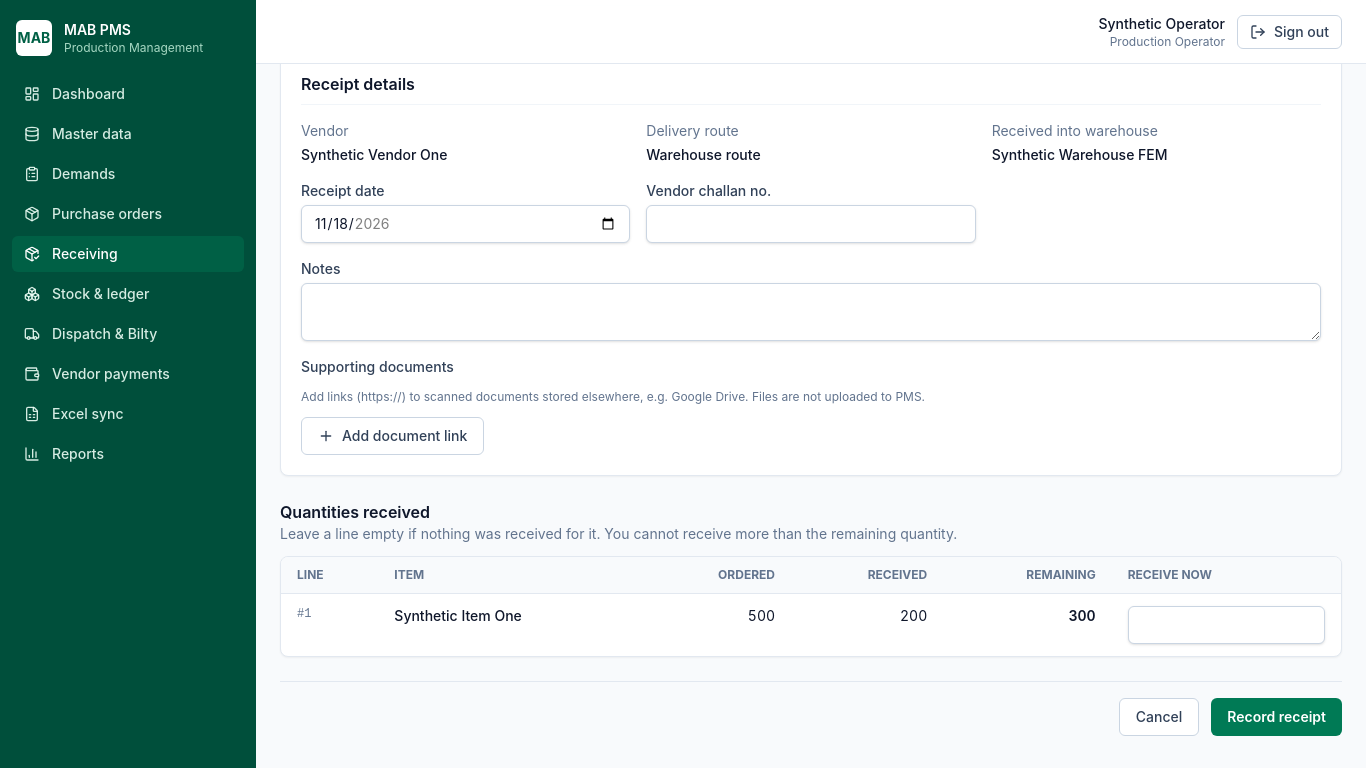
Scenario: Receipt form › prefills the PO from the URL, shows remaining quantities and blocks over-receiving
(page scrolled)
expect the row "#1 Synthetic Item One 500 200 300" is shown: met, box top-left (281, 594), bottom-right (1341, 656)
expect the text "Received into warehouse" is shown: met, box top-left (992, 122), bottom-right (1158, 139)
Type "301" into the number field named "Line 1 quantity to receive".
click(1226, 625); type("301")  # box top-left (1128, 606), bottom-right (1325, 644)
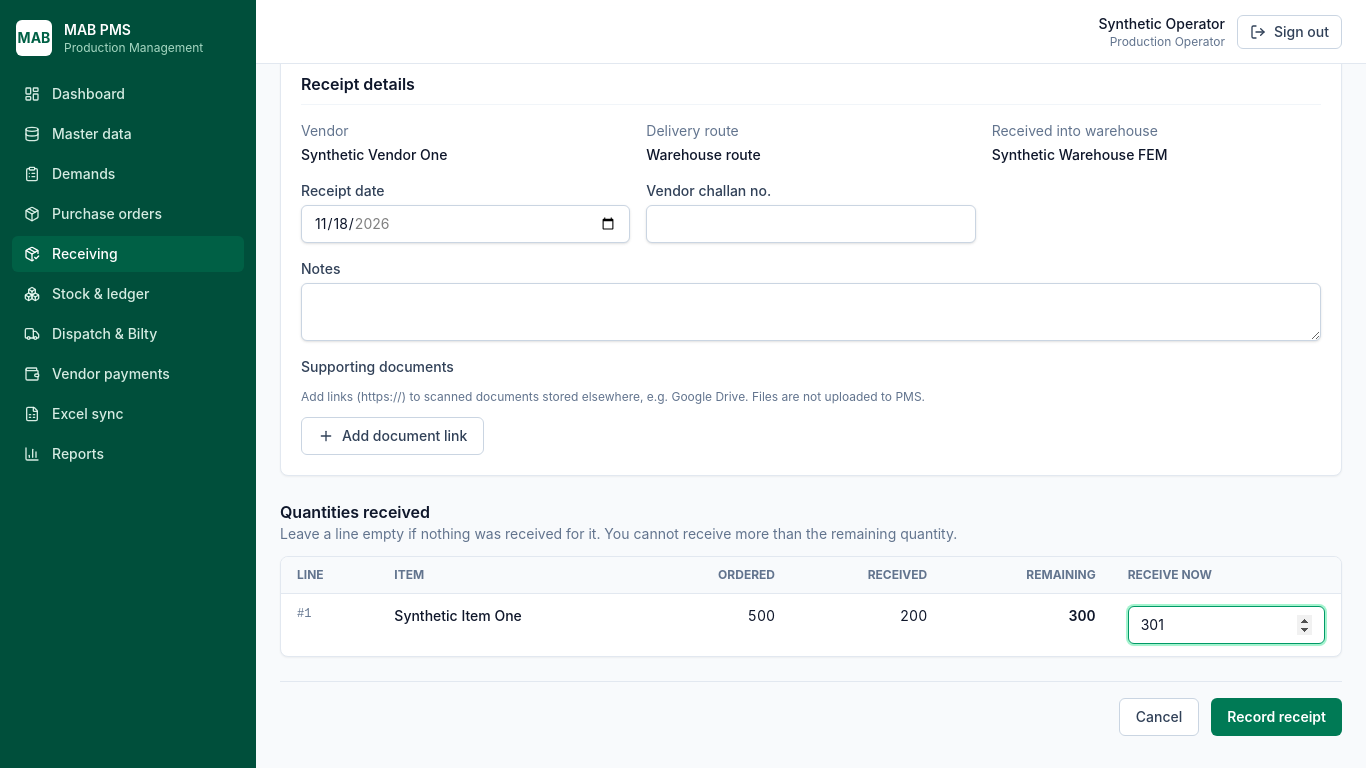
Click the button "Record receipt".
click(1277, 717)  # box top-left (1211, 698), bottom-right (1342, 736)
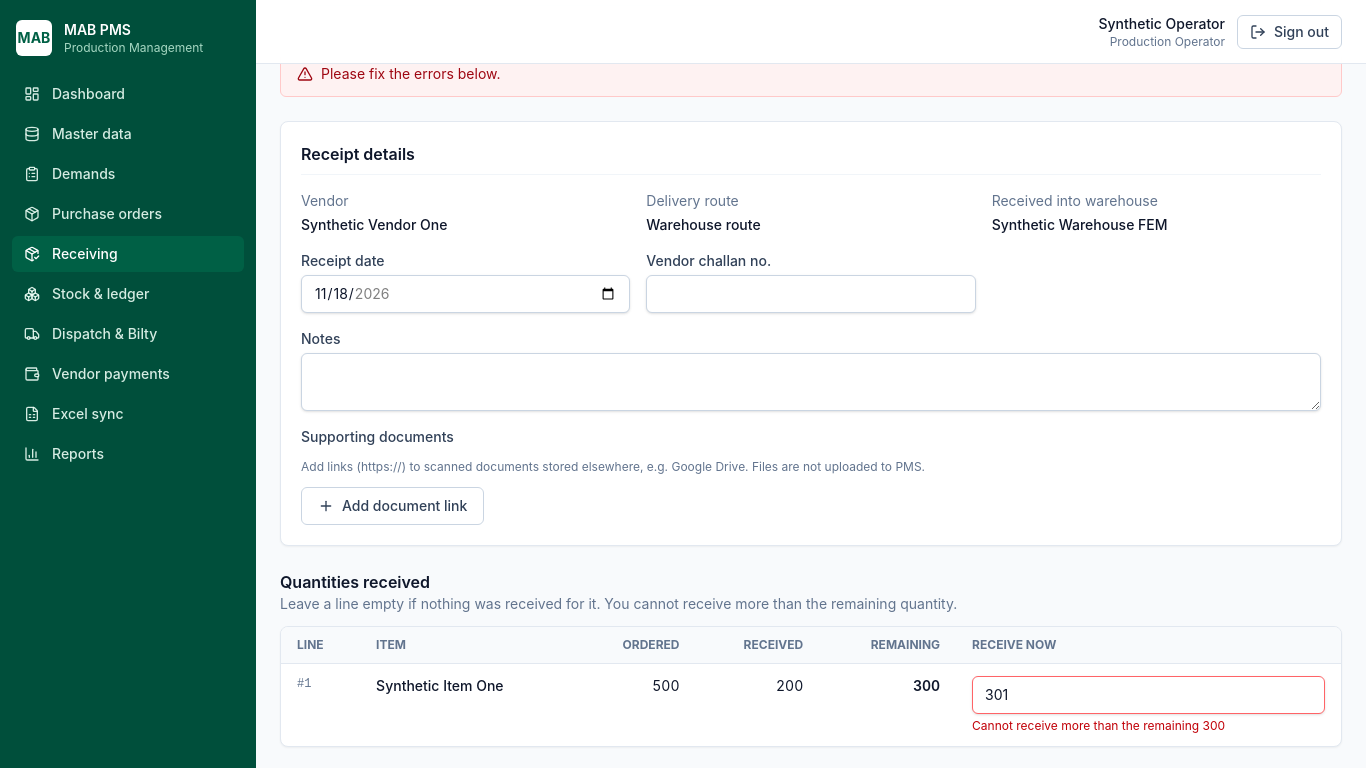
expect the text "Cannot receive more than the remaining 300" is shown: met, box top-left (972, 718), bottom-right (1225, 733)
